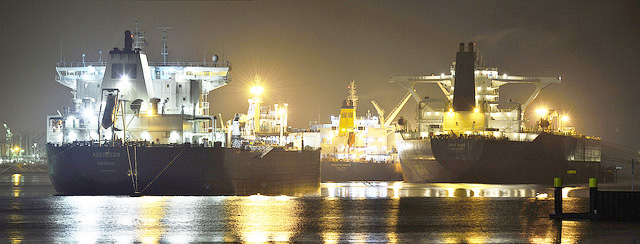tanker: (43, 26, 323, 195), (397, 41, 601, 182)
